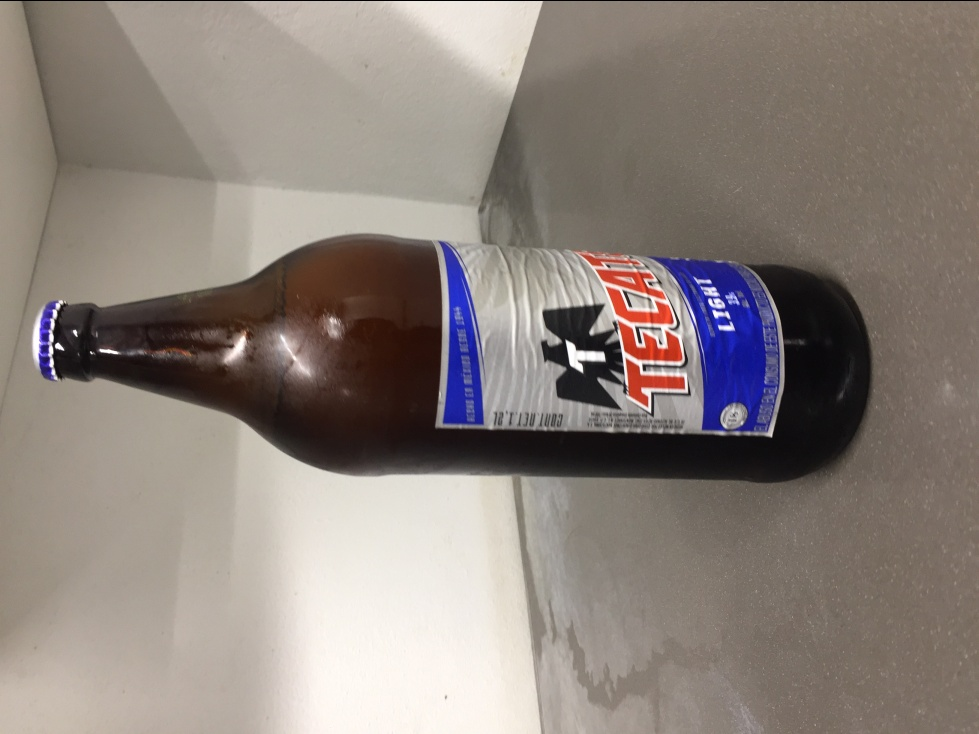tecateC: (31, 231, 878, 483)
